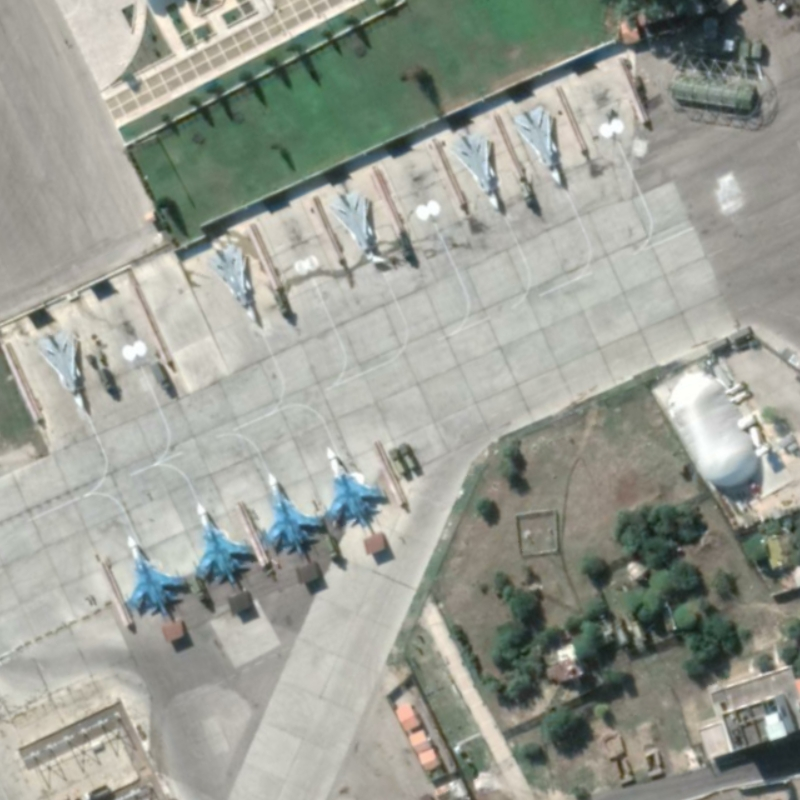A19: (122, 534, 191, 621), (260, 470, 326, 557), (322, 445, 390, 529), (191, 500, 255, 586)
A20: (327, 189, 391, 265), (207, 242, 261, 323), (36, 329, 88, 410), (513, 105, 564, 187), (449, 131, 501, 210)
